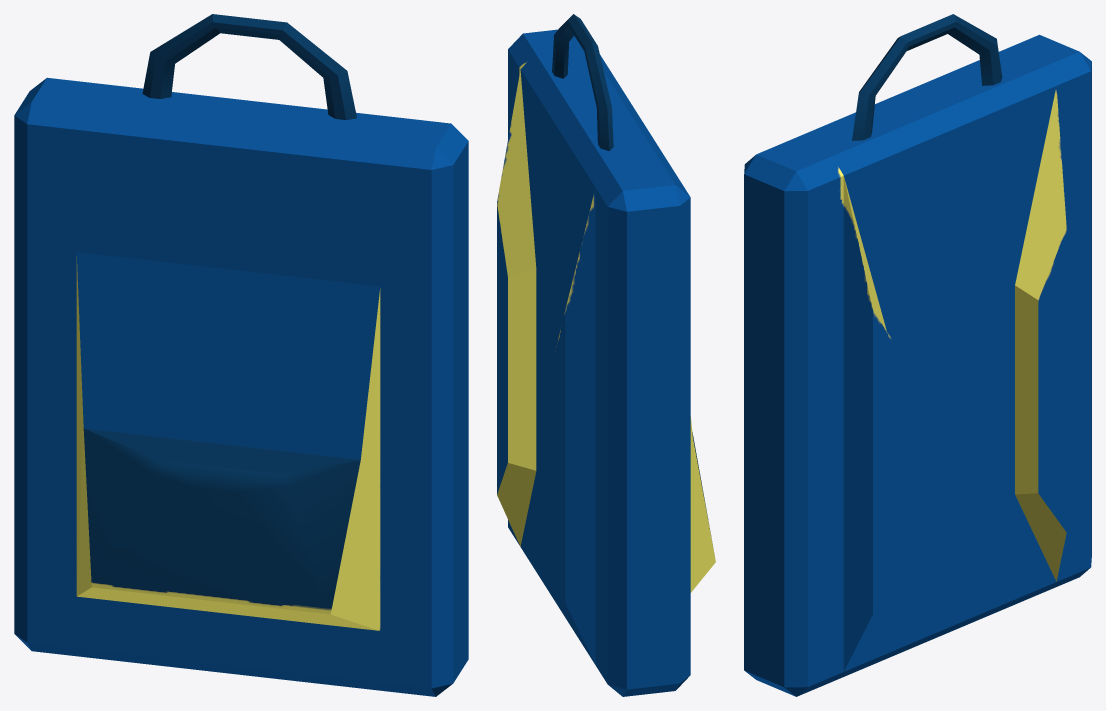
Rendered from SM_Hub_Bag_03.fbx.
3 renders of one model, left to right at view 1: azimuth 30°, elevation 25°; view 2: azimuth 150°, elevation 25°; view 3: azimuth 270°, elevation 25°, orthographic. The views are drawn at different scales.
Parts seen in each view (by area): view 1: SM_Baggage_Bag_03; view 2: SM_Baggage_Bag_03; view 3: SM_Baggage_Bag_03.
Boxes of the visible parts, x1,y1,x2,y2 form: SM_Baggage_Bag_03: (14,14,468,696); SM_Baggage_Bag_03: (497,14,715,696); SM_Baggage_Bag_03: (744,14,1091,696).
Bounding box in the file's own units: 3.22 × 6.22 × 3.22.
